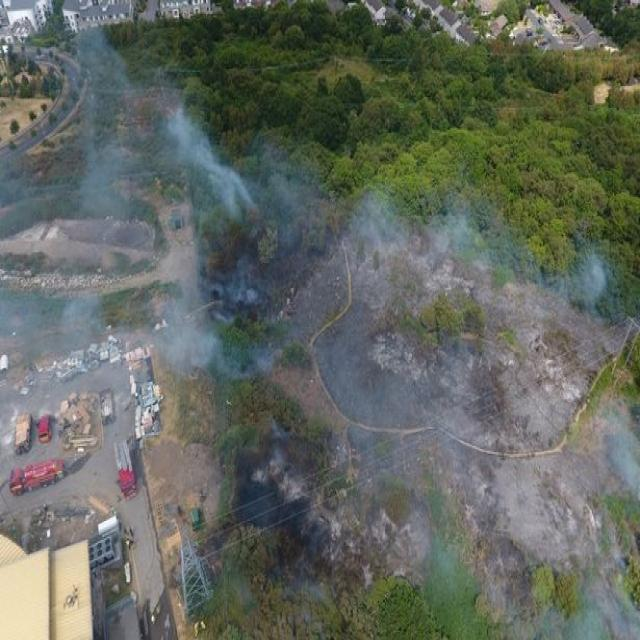Smoke: (129, 123, 396, 473)
